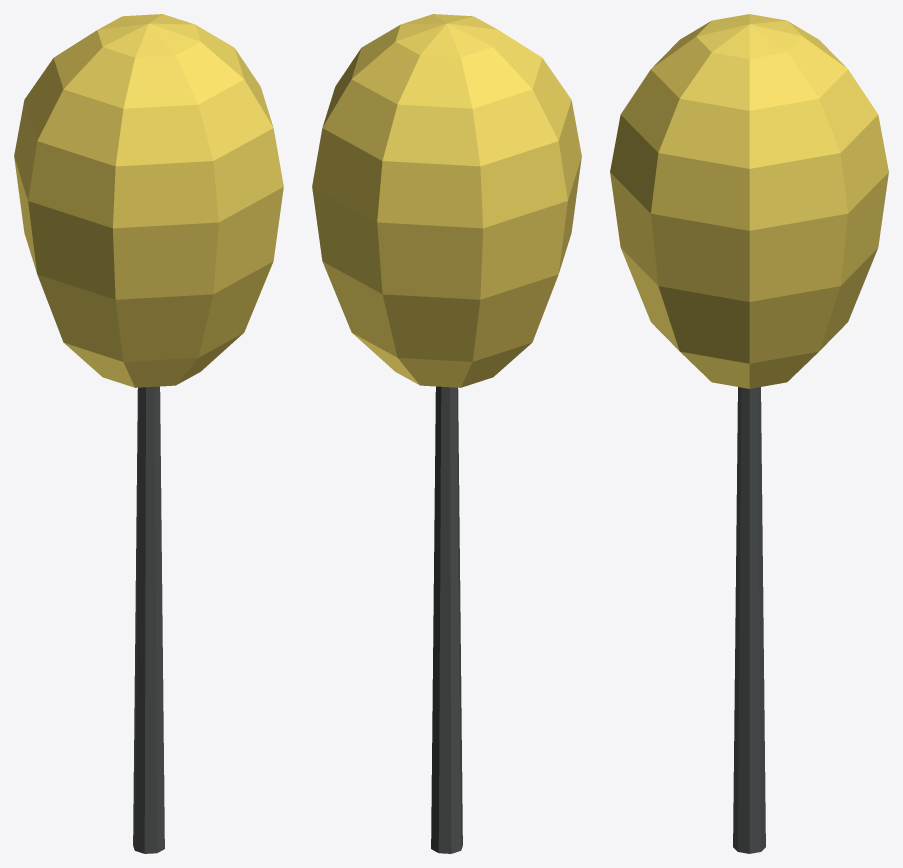
Rendered from lamp.fbx.
3 views of the same model, side by side, from view 1: azimuth 30°, elevation 25°; view 2: azimuth 150°, elevation 25°; view 3: azimuth 270°, elevation 25° (orthographic).
Visible parts, largest first — view 1: lamp; view 2: lamp; view 3: lamp.
Part boxes in pixels (bbox=[...]): lamp: bbox=[14, 14, 283, 853]; lamp: bbox=[312, 14, 581, 853]; lamp: bbox=[610, 14, 888, 853].
Bounding box in the file's own units: 0.7505 × 2.44 × 0.7505.
